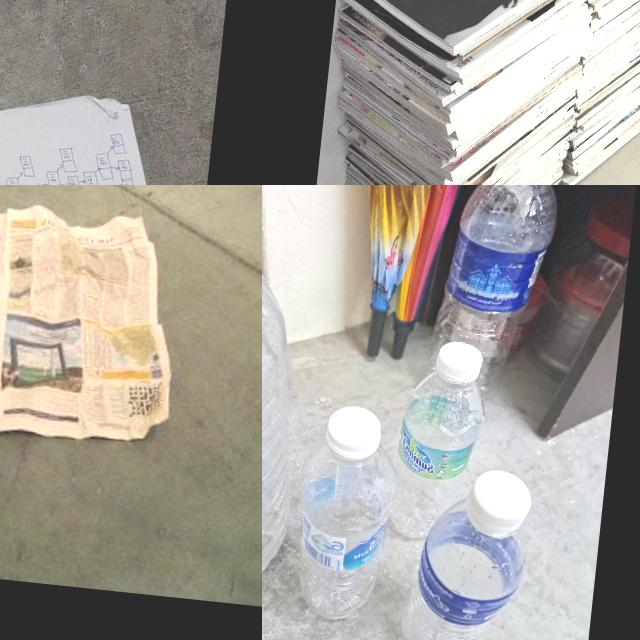garrafa plástica: (426, 185, 564, 398), (262, 199, 319, 617), (288, 434, 396, 623), (395, 493, 530, 640), (384, 365, 487, 544)
papel: (308, 0, 640, 185), (0, 185, 191, 454), (0, 68, 214, 185)
tampa plástica: (464, 466, 534, 533), (324, 403, 384, 457), (434, 338, 484, 382)
